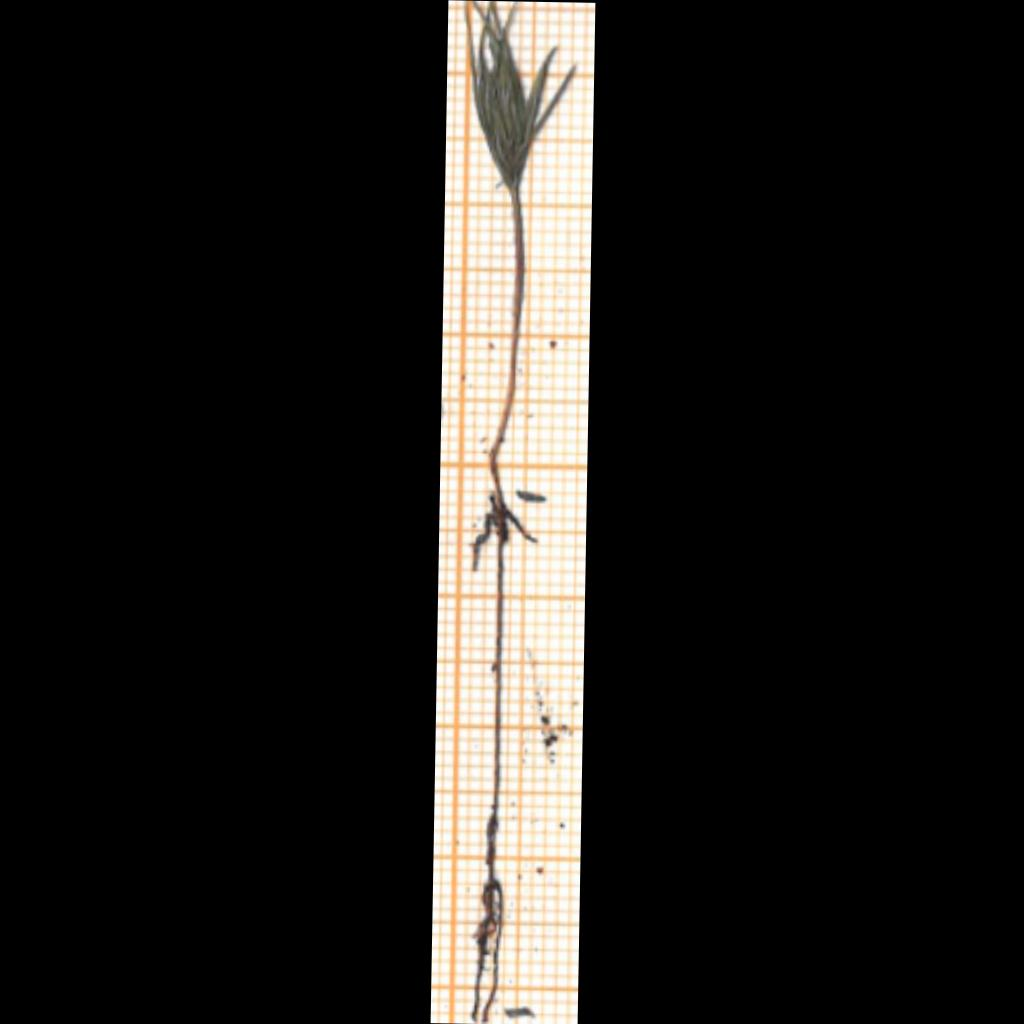flowerPinus: (467, 1, 575, 192)
rootPinus: (473, 496, 537, 1023)
stemPinus: (489, 189, 523, 485)
